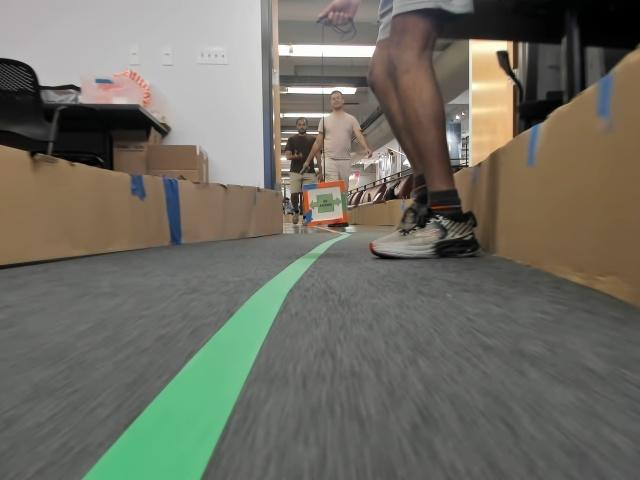Go Around: (309, 195, 339, 212)
